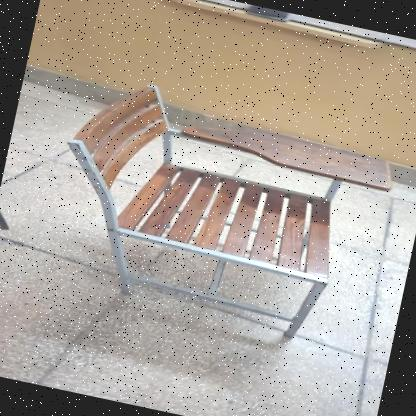chair: (31, 61, 416, 362)
